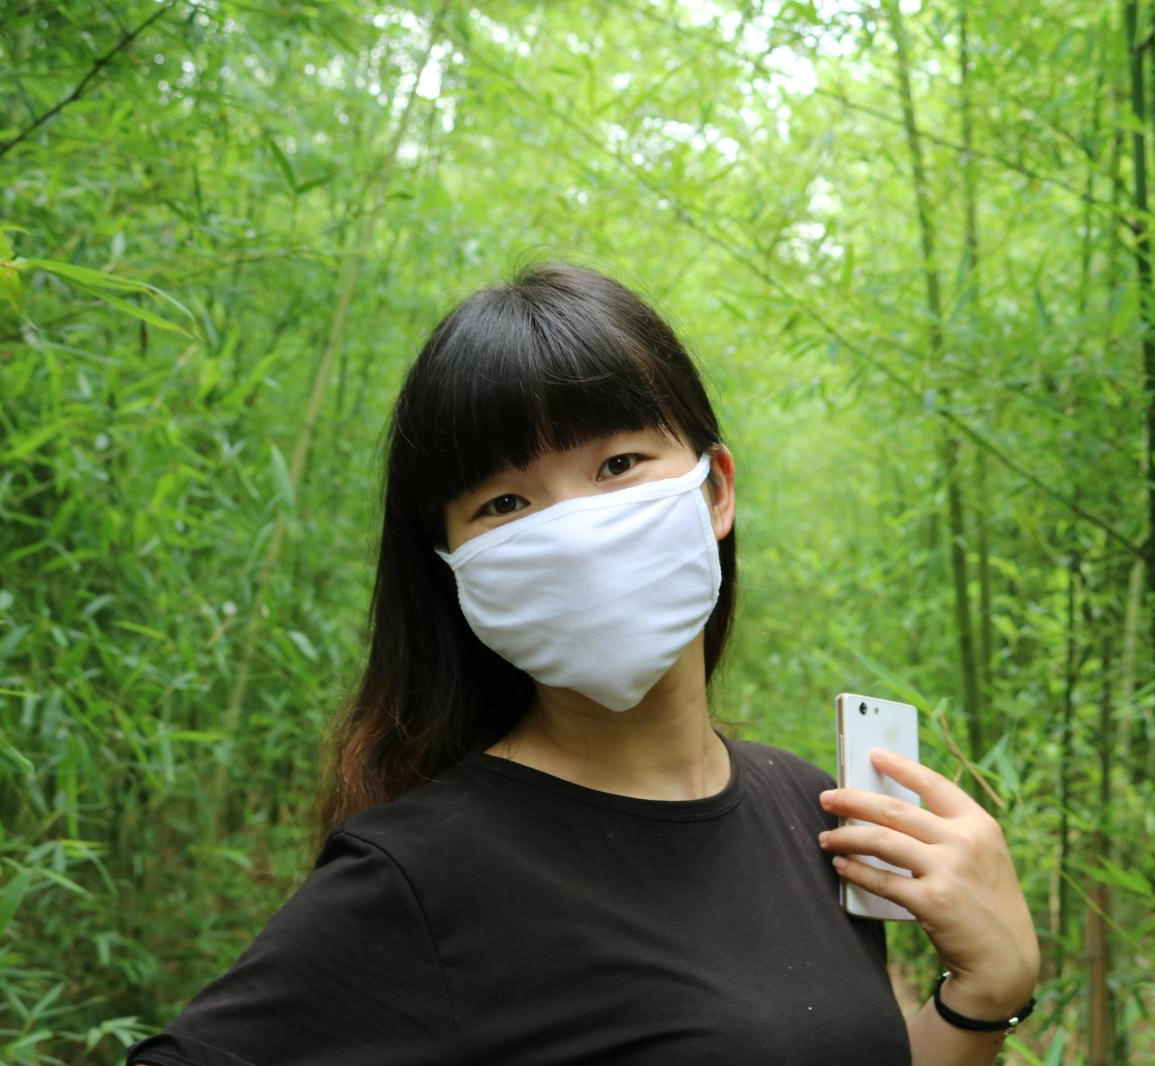face_mask: (452, 367, 714, 715)
